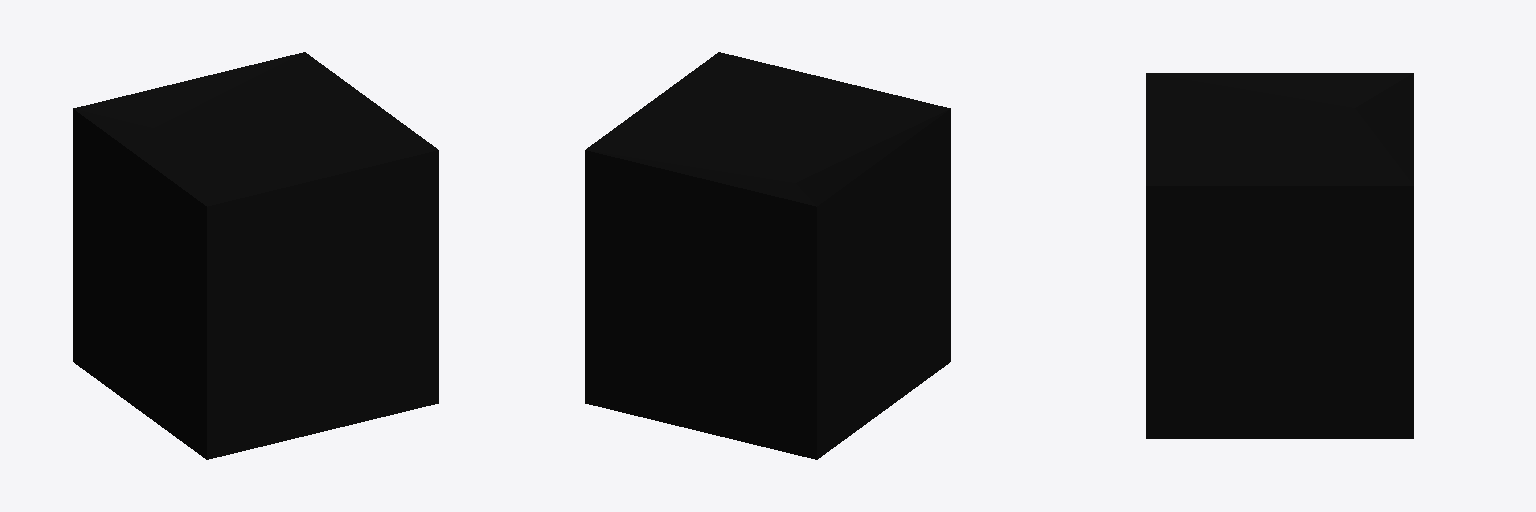
File: Tile3.obj
3 views of the same model, side by side, from view 1: azimuth 30°, elevation 25°; view 2: azimuth 150°, elevation 25°; view 3: azimuth 270°, elevation 25° (orthographic).
Parts seen in each view (by area): view 1: Cubo.006; view 2: Cubo.006; view 3: Cubo.006.
Boxes of the visible parts, x1,y1,x2,y2 form: Cubo.006: [73, 52, 438, 459]; Cubo.006: [585, 52, 950, 459]; Cubo.006: [1146, 73, 1413, 438].
Bounding box in the file's own units: 2 × 2.09 × 2.